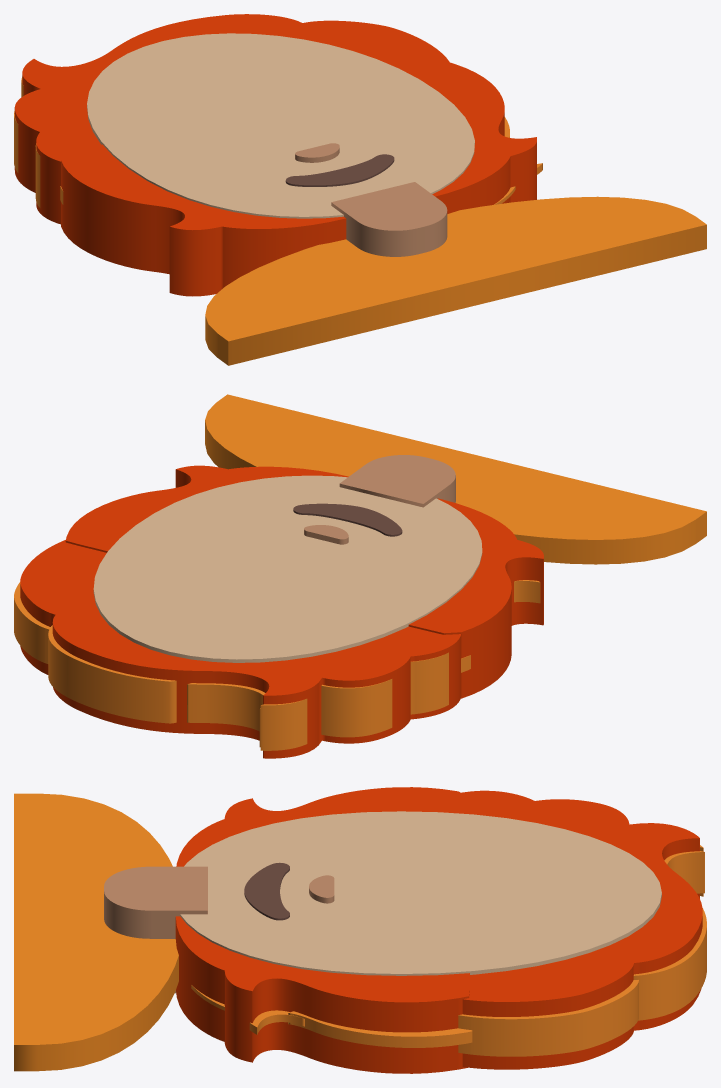
File: emoji_u1f9d1_1f3fc_200d_1f9b0.glb
3 renders of one model, top to bottom at view 1: azimuth 30°, elevation 25°; view 2: azimuth 150°, elevation 25°; view 3: azimuth 270°, elevation 25°, orthographic. The views are drawn at different scales.
Visible parts, largest first — view 1: emoji_u1f9d1_1f3fc_200d_1f9b0; view 2: emoji_u1f9d1_1f3fc_200d_1f9b0; view 3: emoji_u1f9d1_1f3fc_200d_1f9b0.
Part boxes in pixels (<box>): emoji_u1f9d1_1f3fc_200d_1f9b0: <box>14,14,706,365</box>; emoji_u1f9d1_1f3fc_200d_1f9b0: <box>14,394,706,758</box>; emoji_u1f9d1_1f3fc_200d_1f9b0: <box>14,787,706,1073</box>.
Size of the model in its own units: 0.0287 by 0.0046 by 0.0334.
